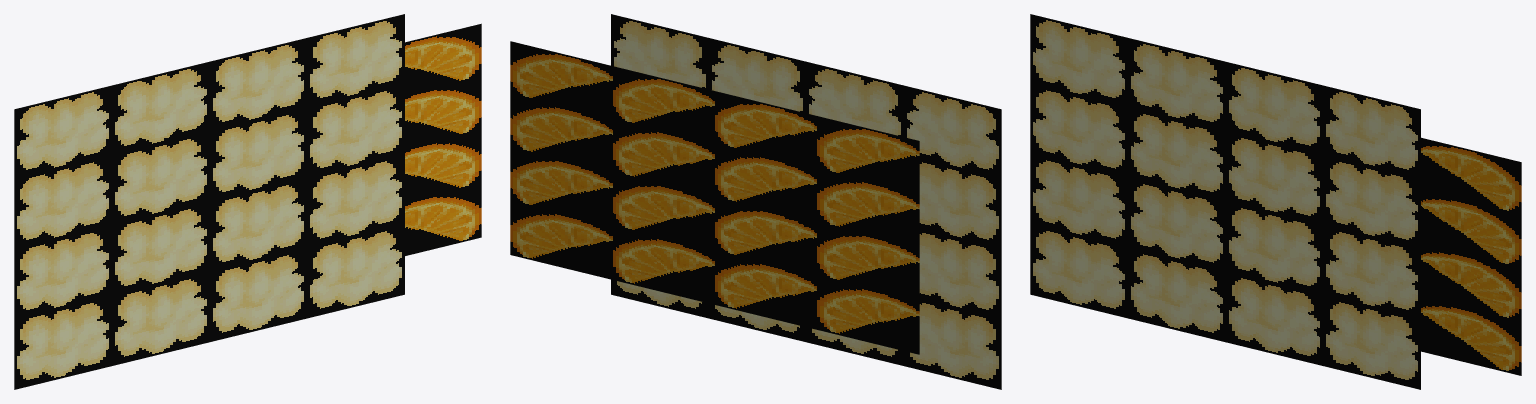
Rendered from 1178item3539.gltf.
The picture shows the model from 3 angles, left to right: view 1: azimuth 30°, elevation 25°; view 2: azimuth 150°, elevation 25°; view 3: azimuth 330°, elevation 25°; orthographic projection.
Parts seen in each view (by area): view 1: 1178item3539; view 2: 1178item3539; view 3: 1178item3539.
Part boxes in pixels (<box>): 1178item3539: <box>14,14,481,389</box>; 1178item3539: <box>510,14,1001,389</box>; 1178item3539: <box>1030,14,1521,389</box>.
Size of the model in its own units: 0.4531 by 0.2534 by 0.0195.
Materials: 3 (3 with a texture image).
